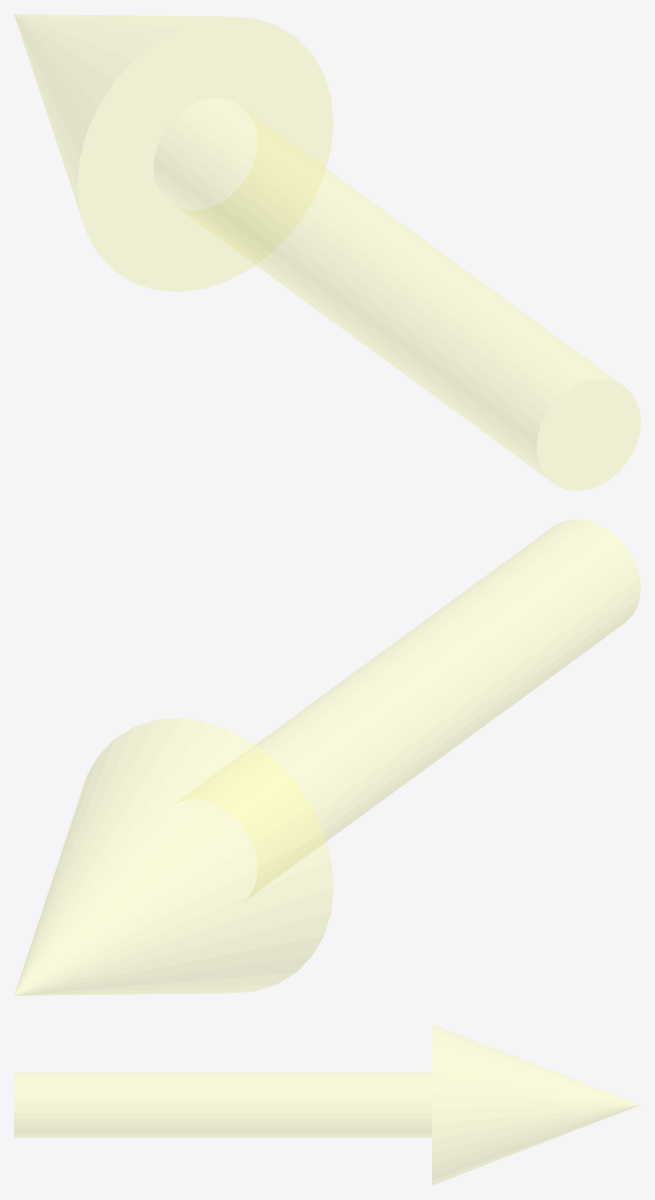
File: directional_light.gltf
3 views of the same model, one above another, from view 1: azimuth 30°, elevation 25°; view 2: azimuth 150°, elevation 25°; view 3: azimuth 270°, elevation 25° (orthographic). The views are drawn at different scales.
Parts seen in each view (by area): view 1: directional_light; view 2: directional_light; view 3: directional_light.
Part boxes in pixels (bbox=[...]): directional_light: bbox=[14, 14, 640, 490]; directional_light: bbox=[14, 519, 640, 995]; directional_light: bbox=[14, 1024, 639, 1185].
Bounding box in the file's own units: 0.0279 × 0.0279 × 0.1082.
